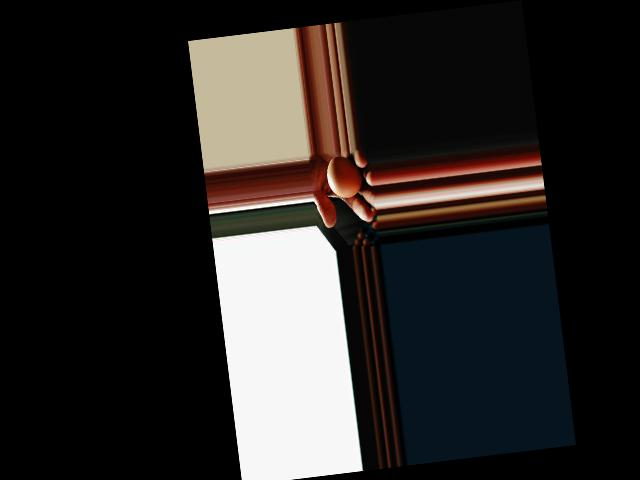egg: (325, 152, 365, 199)
